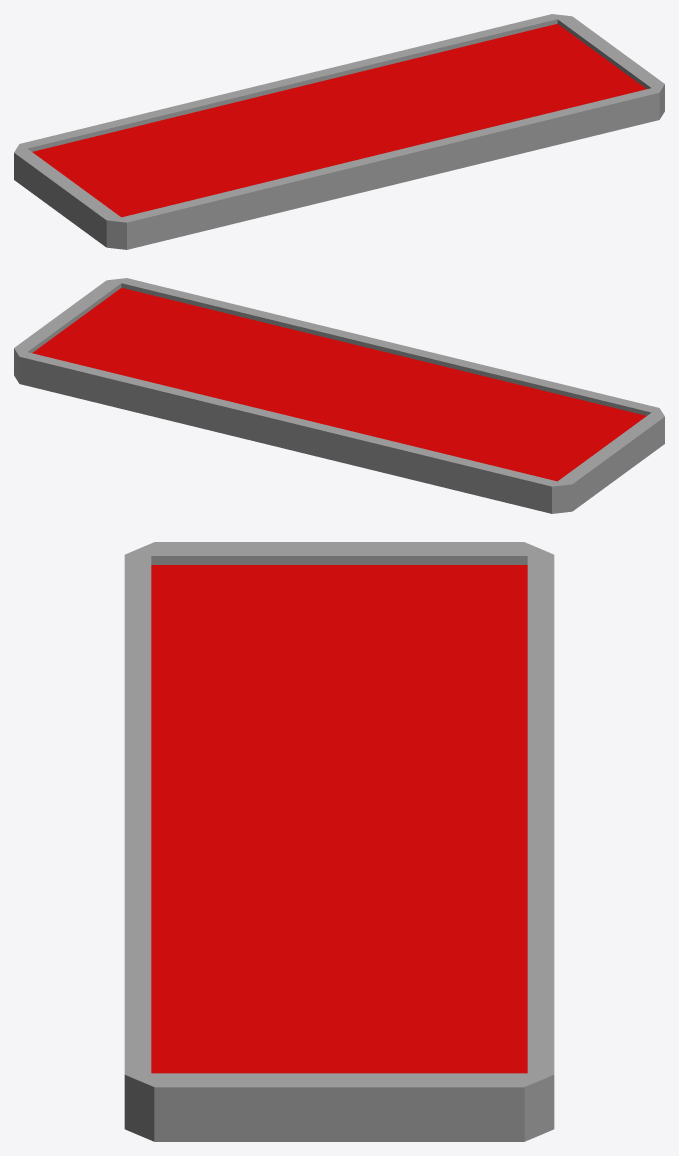
Rendered from Catwalk.fbx.
3 renders of one model, top to bottom at view 1: azimuth 30°, elevation 25°; view 2: azimuth 150°, elevation 25°; view 3: azimuth 270°, elevation 25°, orthographic. The views are drawn at different scales.
Visible parts, largest first — view 1: pCube13; view 2: pCube13; view 3: pCube13.
Boxes of the visible parts, x1=… form: pCube13: x1=14, y1=14, x2=664, y2=249; pCube13: x1=14, y1=278, x2=664, y2=513; pCube13: x1=124, y1=542, x2=554, y2=1141.
Size of the model in its own units: 3 by 0.1403 by 1.
